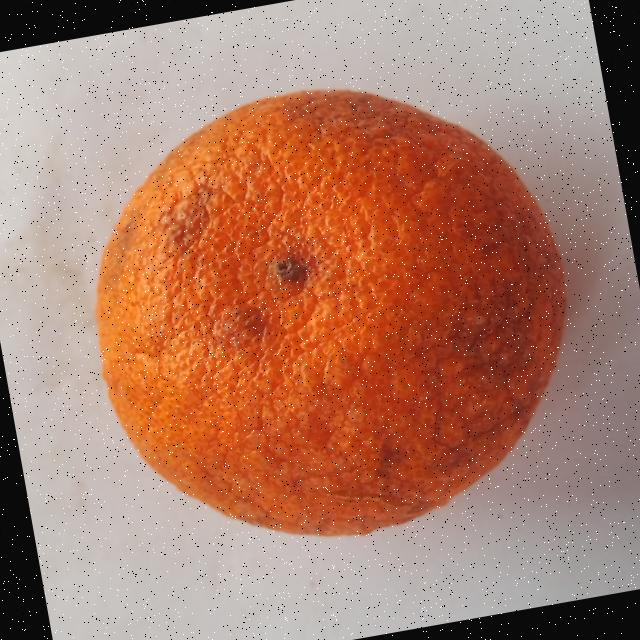overripe: (49, 44, 608, 582)
